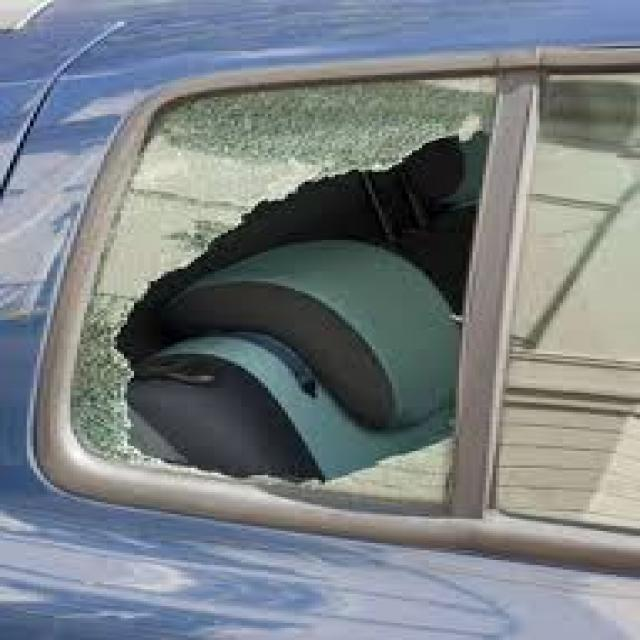damaged-window: (63, 64, 504, 517)
